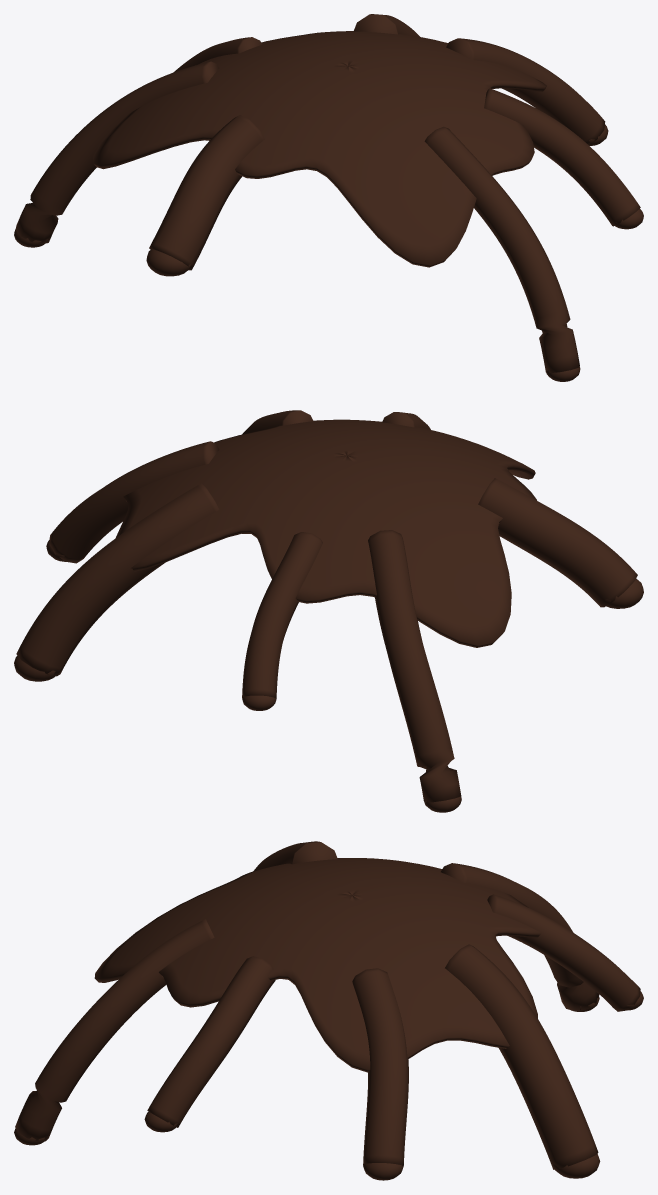
File: sweet-drizzle-scoop.glb
3 views of the same model, one above another, from view 1: azimuth 30°, elevation 25°; view 2: azimuth 150°, elevation 25°; view 3: azimuth 270°, elevation 25° (orthographic). The views are drawn at different scales.
Visible parts, largest first — view 1: Pooled hot fudge, Uneven poured fudge run.005, Uneven poured fudge run.004, Uneven poured fudge run.003, Uneven poured fudge run.006, Uneven poured fudge run, Uneven poured fudge run.002, Uneven poured fudge run.001, Rounded sauce droplet.004; view 2: Pooled hot fudge, Uneven poured fudge run.001, Uneven poured fudge run.003, Uneven poured fudge run.004, Uneven poured fudge run, Uneven poured fudge run.002, Uneven poured fudge run.006, Rounded sauce droplet.004; view 3: Pooled hot fudge, Uneven poured fudge run.001, Uneven poured fudge run.005, Uneven poured fudge run, Uneven poured fudge run.006, Uneven poured fudge run.002, Uneven poured fudge run.003, Uneven poured fudge run.004, Rounded sauce droplet.001, Rounded sauce droplet.
Boxes of the visible parts, <box> form: Pooled hot fudge: <box>93,31,546,267</box>; Uneven poured fudge run.005: <box>424,126,579,372</box>; Uneven poured fudge run.004: <box>149,115,264,270</box>; Uneven poured fudge run.003: <box>15,61,219,244</box>; Uneven poured fudge run.006: <box>484,88,640,226</box>; Uneven poured fudge run: <box>446,38,605,144</box>; Uneven poured fudge run.002: <box>173,37,262,72</box>; Uneven poured fudge run.001: <box>353,14,419,36</box>; Rounded sauce droplet.004: <box>146,249,193,276</box>; Pooled hot fudge: <box>116,419,536,647</box>; Uneven poured fudge run.001: <box>16,483,219,676</box>; Uneven poured fudge run.003: <box>368,530,461,802</box>; Uneven poured fudge run.004: <box>478,478,637,607</box>; Uneven poured fudge run: <box>49,441,219,563</box>; Uneven poured fudge run.002: <box>242,532,322,698</box>; Uneven poured fudge run.006: <box>242,410,313,434</box>; Rounded sauce droplet.004: <box>605,578,643,608</box>; Pooled hot fudge: <box>94,858,541,1072</box>; Uneven poured fudge run.001: <box>445,944,598,1169</box>; Uneven poured fudge run.005: <box>15,919,214,1141</box>; Uneven poured fudge run: <box>352,968,408,1166</box>; Uneven poured fudge run.006: <box>147,956,275,1127</box>; Uneven poured fudge run.002: <box>487,894,640,1011</box>; Uneven poured fudge run.003: <box>441,863,599,1011</box>; Uneven poured fudge run.004: <box>253,841,337,871</box>; Rounded sauce droplet.001: <box>553,1154,600,1178</box>; Rounded sauce droplet: <box>363,1163,403,1180</box>.
Bounding box in the file's own units: 0.9086 × 0.3607 × 0.9418.
